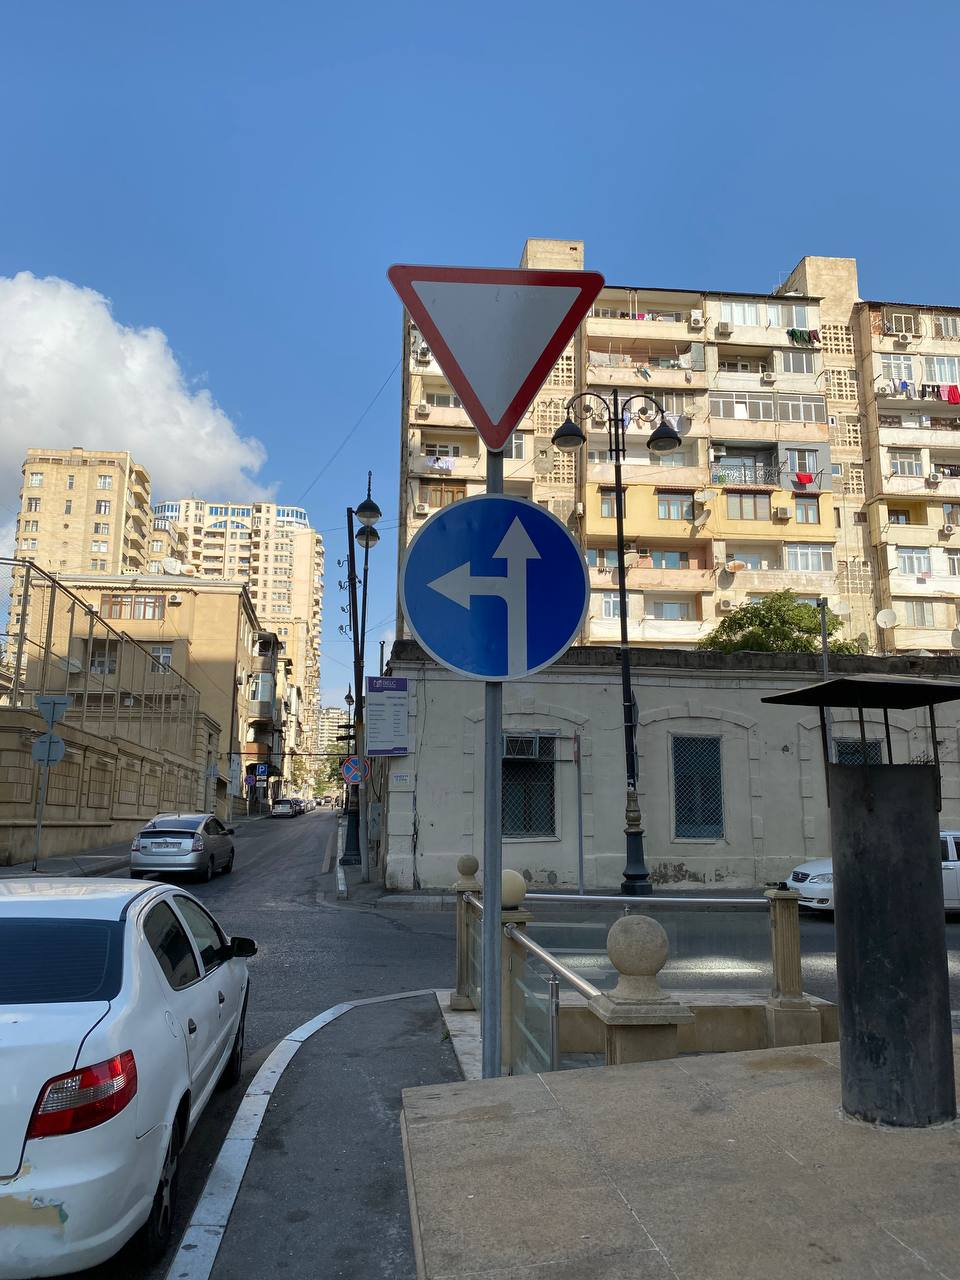Give Way: (385, 263, 606, 453)
Straight or Left: (398, 494, 591, 681)
